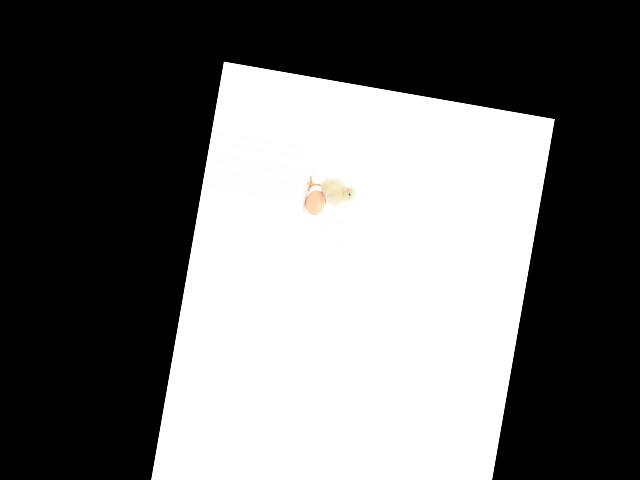egg: (303, 187, 327, 216)
